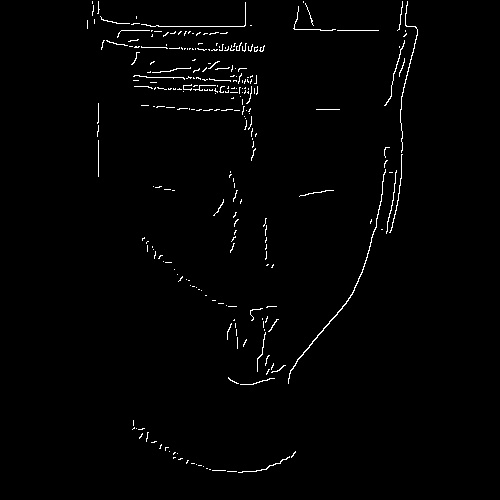mask: (90, 40, 407, 312)
